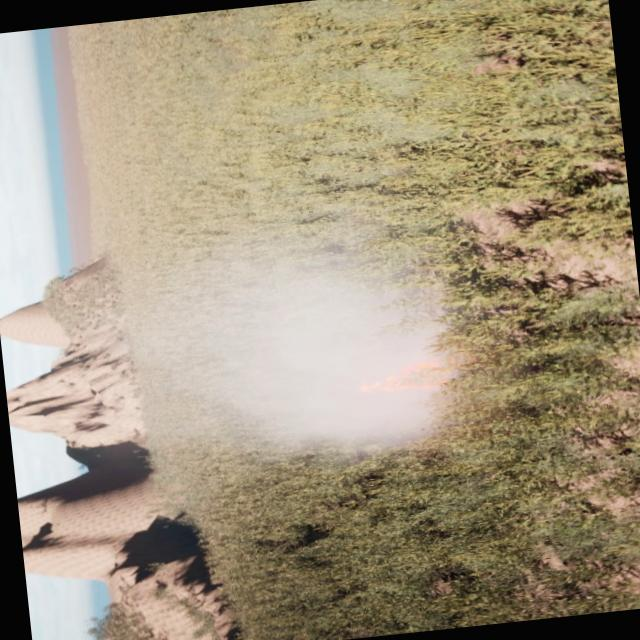fire: (350, 361, 444, 398)
smoke: (144, 207, 462, 476)
